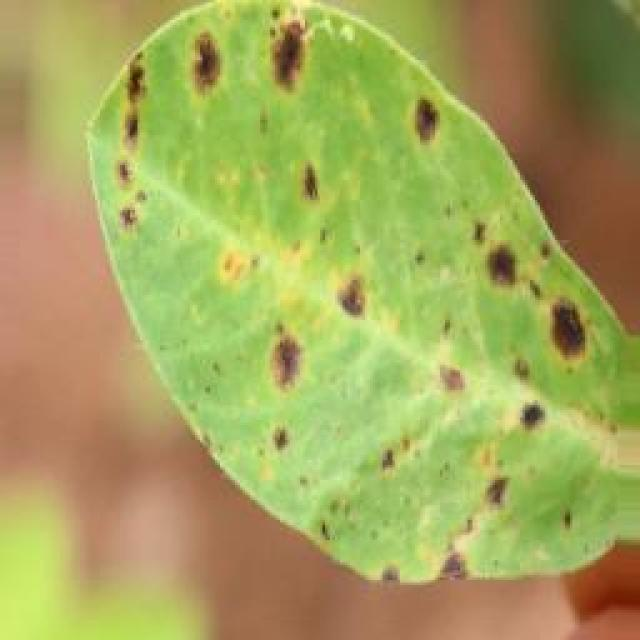Yellowish: (87, 1, 616, 578)
